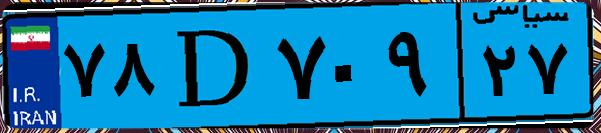0: (330, 28, 385, 110)
2: (475, 38, 525, 113)
7: (270, 28, 330, 110), (57, 26, 110, 100), (525, 38, 570, 115)
8: (110, 28, 158, 98)
9: (385, 28, 445, 110)
D: (158, 12, 270, 120)
